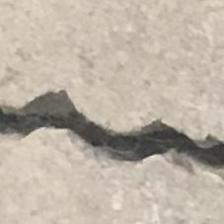Crack: (0, 82, 224, 176)
